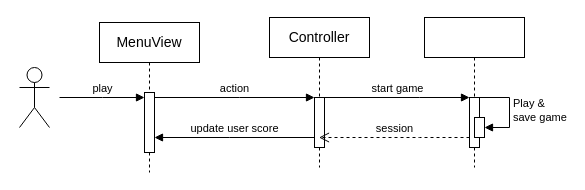
The diagram is 585 pixels wide and 190 high, and some of its shapes have lost their labels. Each missing label, with the centre of its shape:
Model: (x=474, y=92)
Player: (x=34, y=97)
